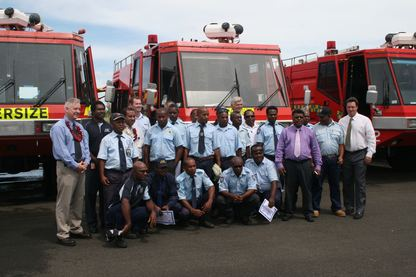truck: (248, 31, 416, 178), (112, 22, 310, 129), (0, 16, 108, 171)
